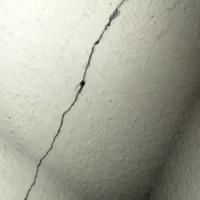crack: (17, 0, 130, 199)
